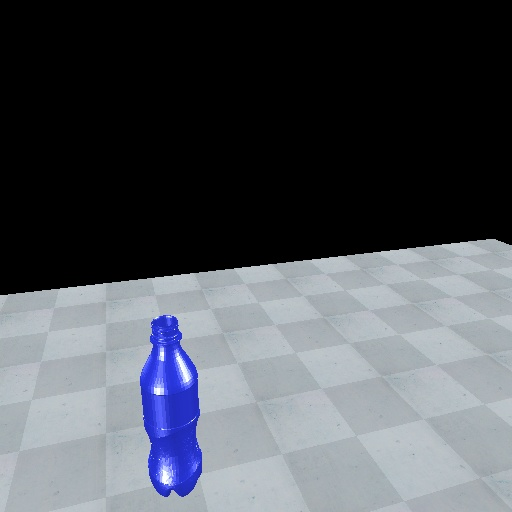bottle: (137, 313, 205, 499)
